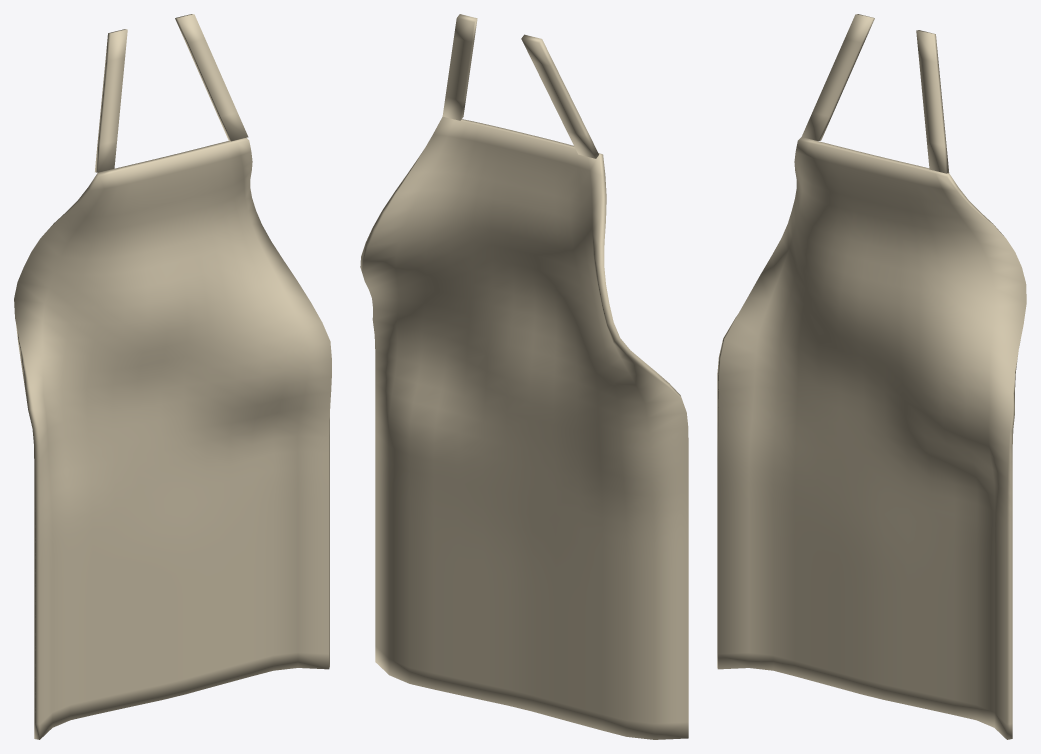
The model's file is kleidung.schuerze.glb.
3 views of the same model, side by side, from view 1: azimuth 30°, elevation 25°; view 2: azimuth 150°, elevation 25°; view 3: azimuth 330°, elevation 25° (orthographic). The views are drawn at different scales.
Parts seen in each view (by area): view 1: schuerze; view 2: schuerze; view 3: schuerze.
Boxes of the visible parts, box(x1,y1,x2,y2) form: schuerze: box(14, 14, 331, 739); schuerze: box(360, 14, 688, 739); schuerze: box(717, 14, 1026, 739).
Size of the model in its own units: 0.44 by 0.9359 by 0.1252.
